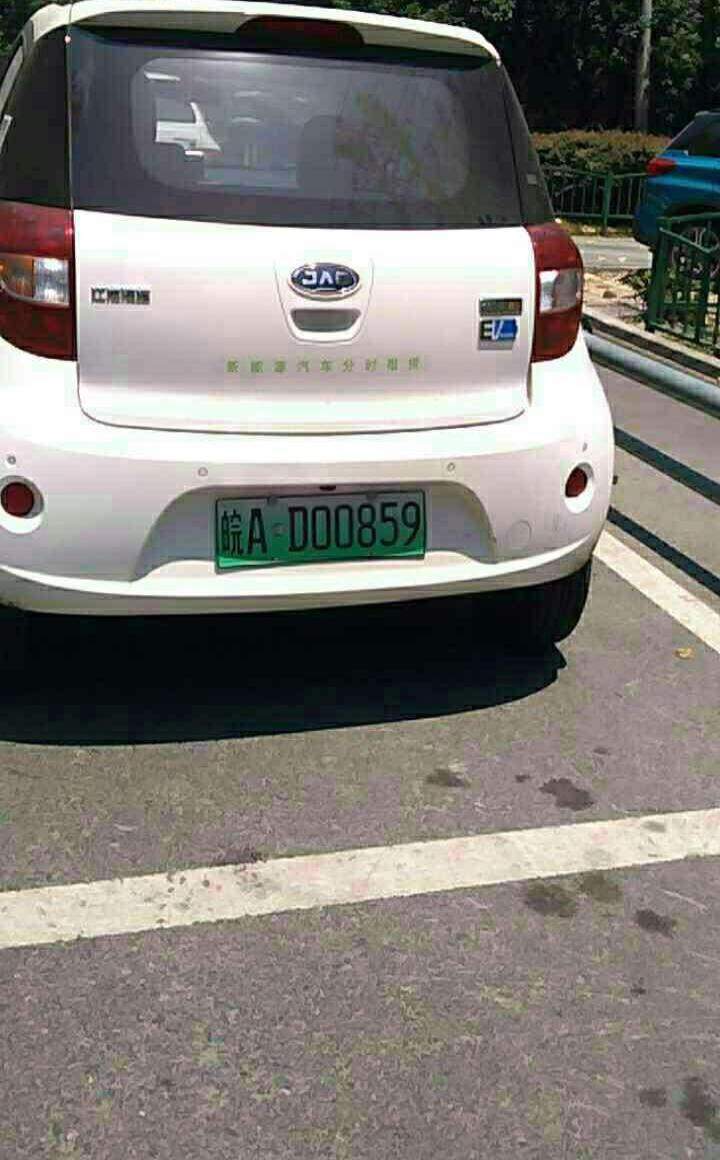car_id: (218, 488, 429, 569)
